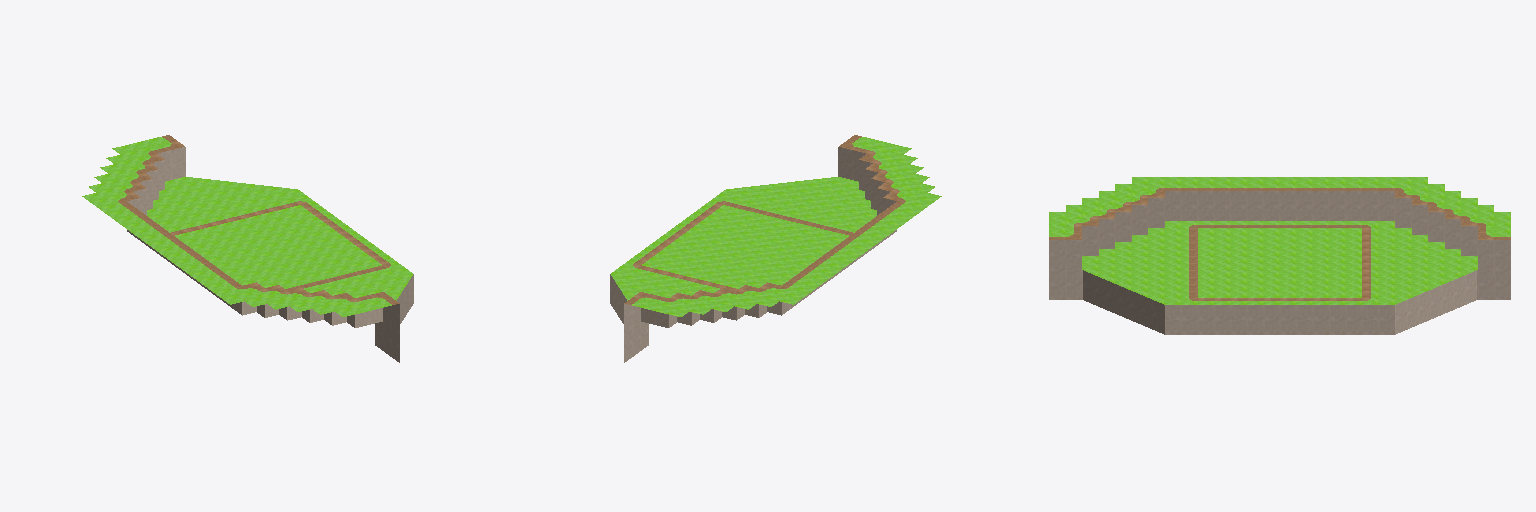
3 views of the same model, side by side, from view 1: azimuth 30°, elevation 25°; view 2: azimuth 150°, elevation 25°; view 3: azimuth 270°, elevation 25° (orthographic).
Parts seen in each view (by area): view 1: Cube; view 2: Cube; view 3: Cube.
Boxes of the visible parts, x1=… form: Cube: x1=82, y1=135, x2=413, y2=362; Cube: x1=610, y1=135, x2=941, y2=362; Cube: x1=1049, y1=177, x2=1510, y2=334.
Size of the model in its own units: 14.01 by 4 by 28.
1 materials, 1 textured.